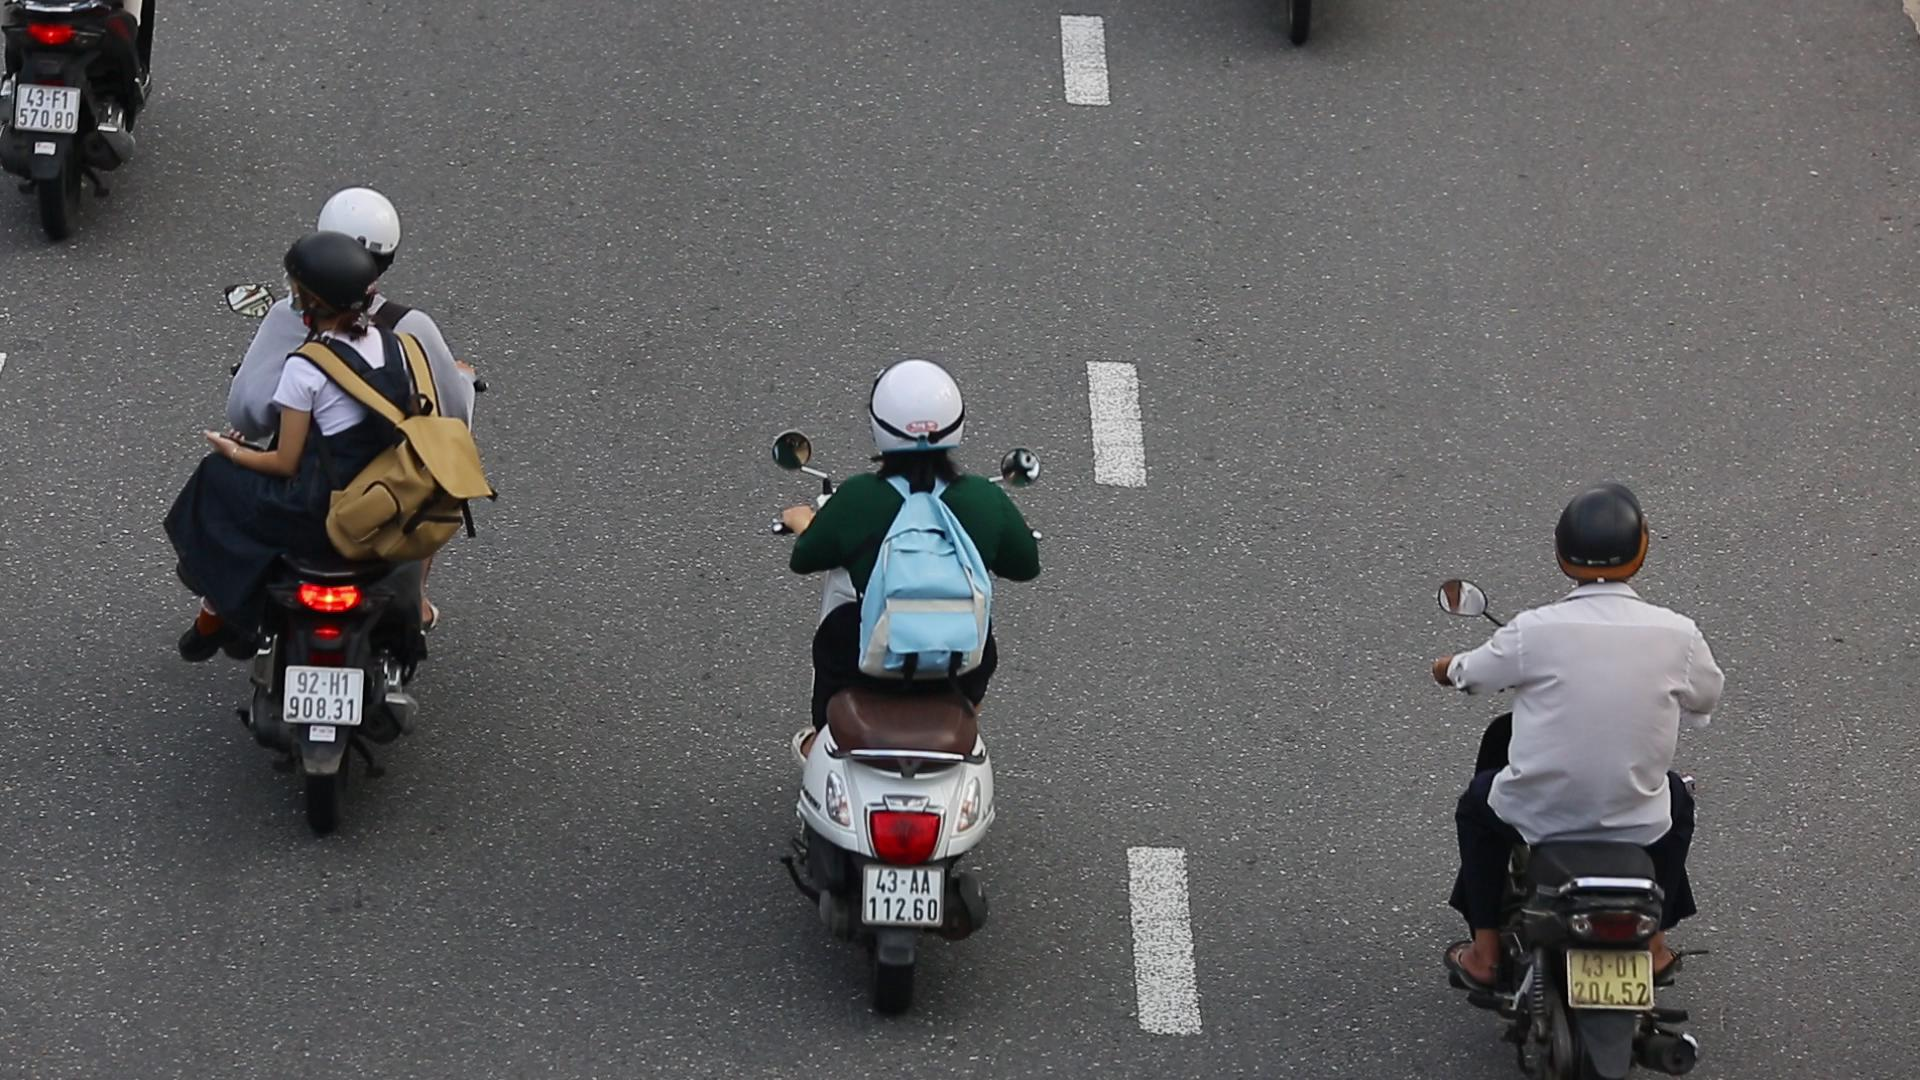motobike: (175, 181, 516, 848), (740, 357, 1062, 1030), (1416, 473, 1730, 1080)
